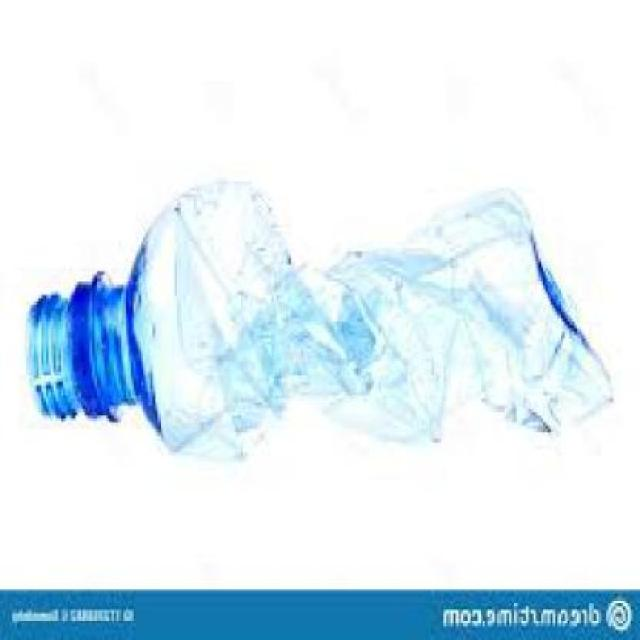PLASTIC: (32, 185, 620, 452)
